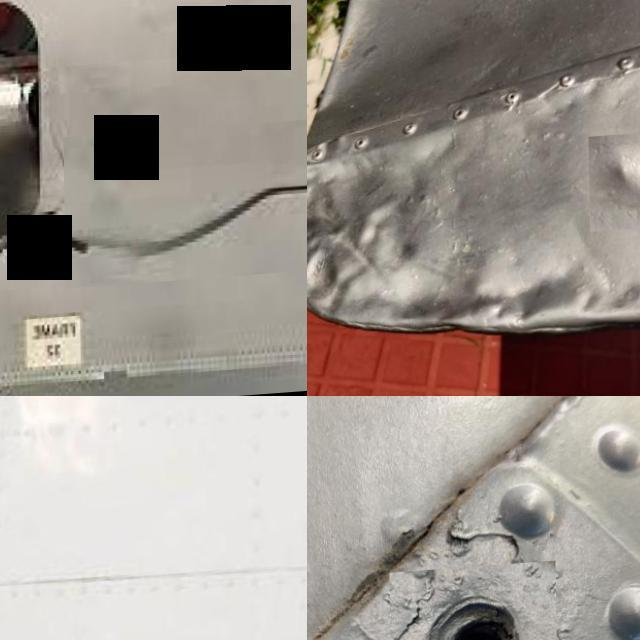Crack: (62, 125, 307, 294)
Dent: (411, 232, 640, 365), (307, 155, 441, 320), (587, 137, 640, 238)
Missing_Fastener: (388, 567, 556, 640)
